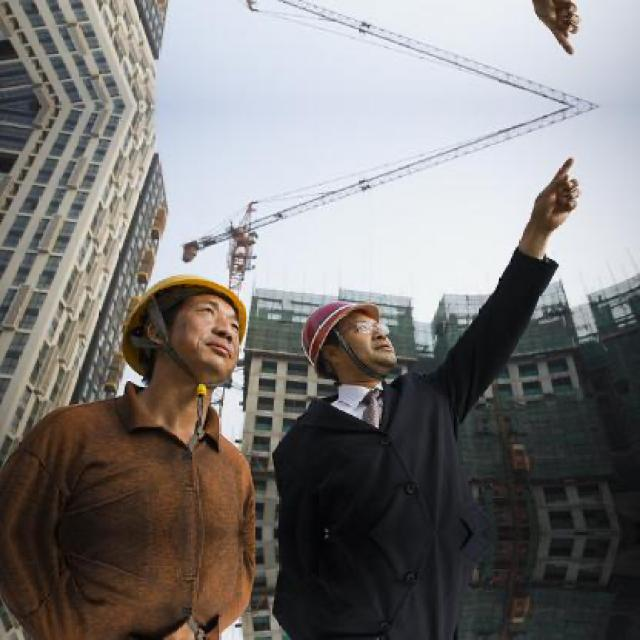helmet: (117, 274, 254, 382), (300, 298, 394, 381)
